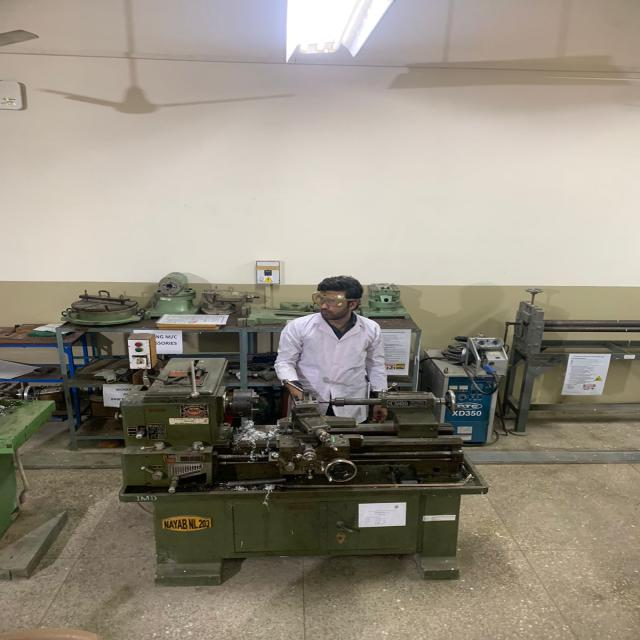googles: (310, 290, 348, 308)
labcoat: (273, 309, 389, 424)
